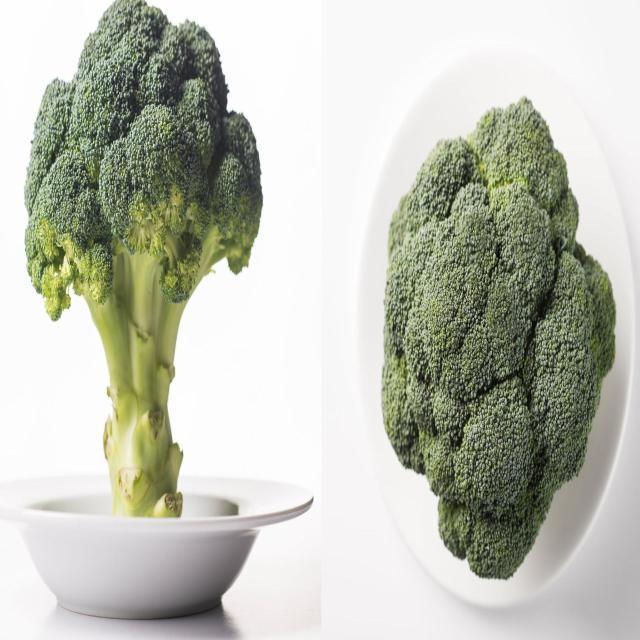broccoli: (18, 1, 266, 566), (376, 90, 618, 591)
